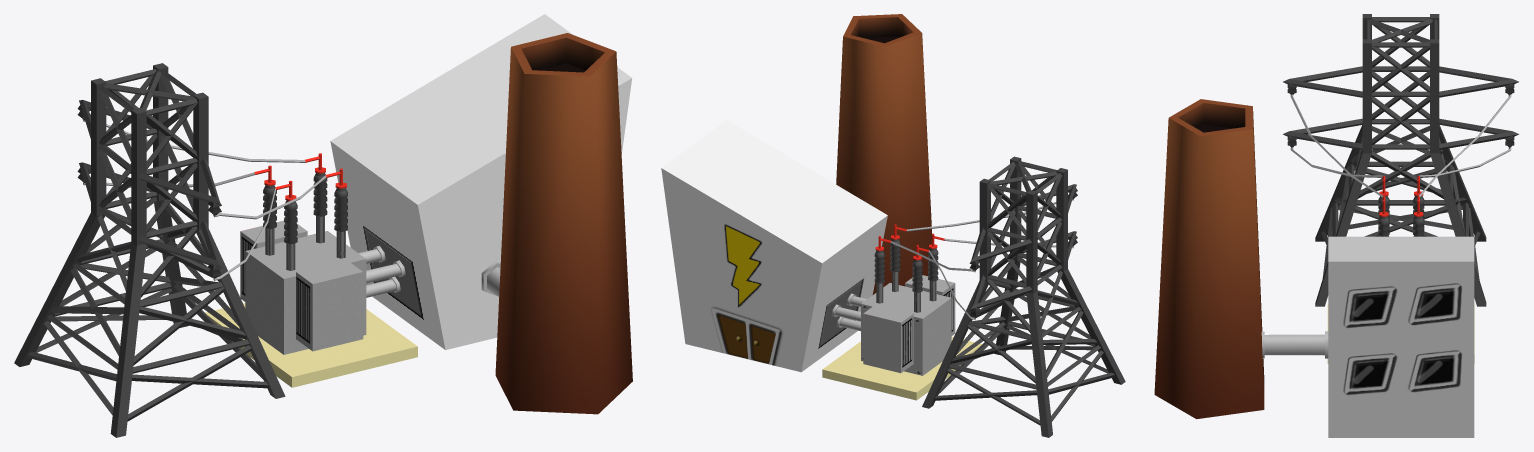
The model's file is PowerPlant.FBX.
The picture shows the model from 3 angles, left to right: view 1: azimuth 30°, elevation 25°; view 2: azimuth 150°, elevation 25°; view 3: azimuth 270°, elevation 25°; orthographic projection. The views are drawn at different scales.
Parts seen in each view (by area): view 1: Box011; view 2: Box011; view 3: Box011.
Part boxes in pixels (x1=…): Box011: x1=14, y1=14, x2=632, y2=437; Box011: x1=661, y1=14, x2=1125, y2=437; Box011: x1=1154, y1=14, x2=1518, y2=437.
Bounding box in the file's own units: 112 × 67.71 × 80.84.
